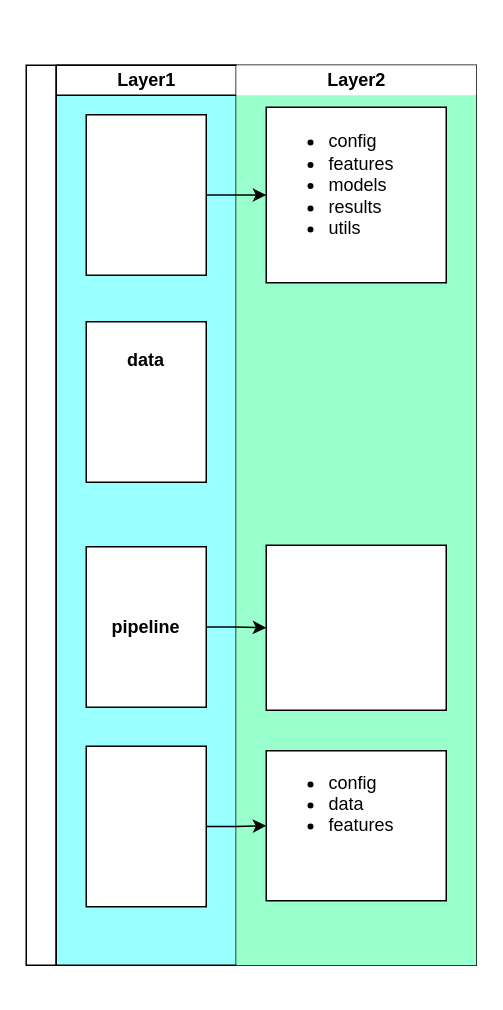
Some shapes in this 503 by 1010 pixel diagram are drawn without their labels. Each missing label, with the centre of its shape:
feast ingestion: (x=145, y=826)
refresh weekly daily performance feast ingestion: (x=355, y=627)
src (model refresh): (x=145, y=194)
